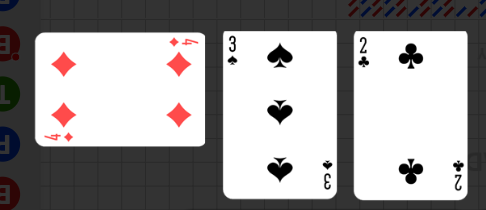2C: (357, 36, 371, 70)
3S: (226, 34, 239, 68)
4D: (44, 131, 75, 143)
